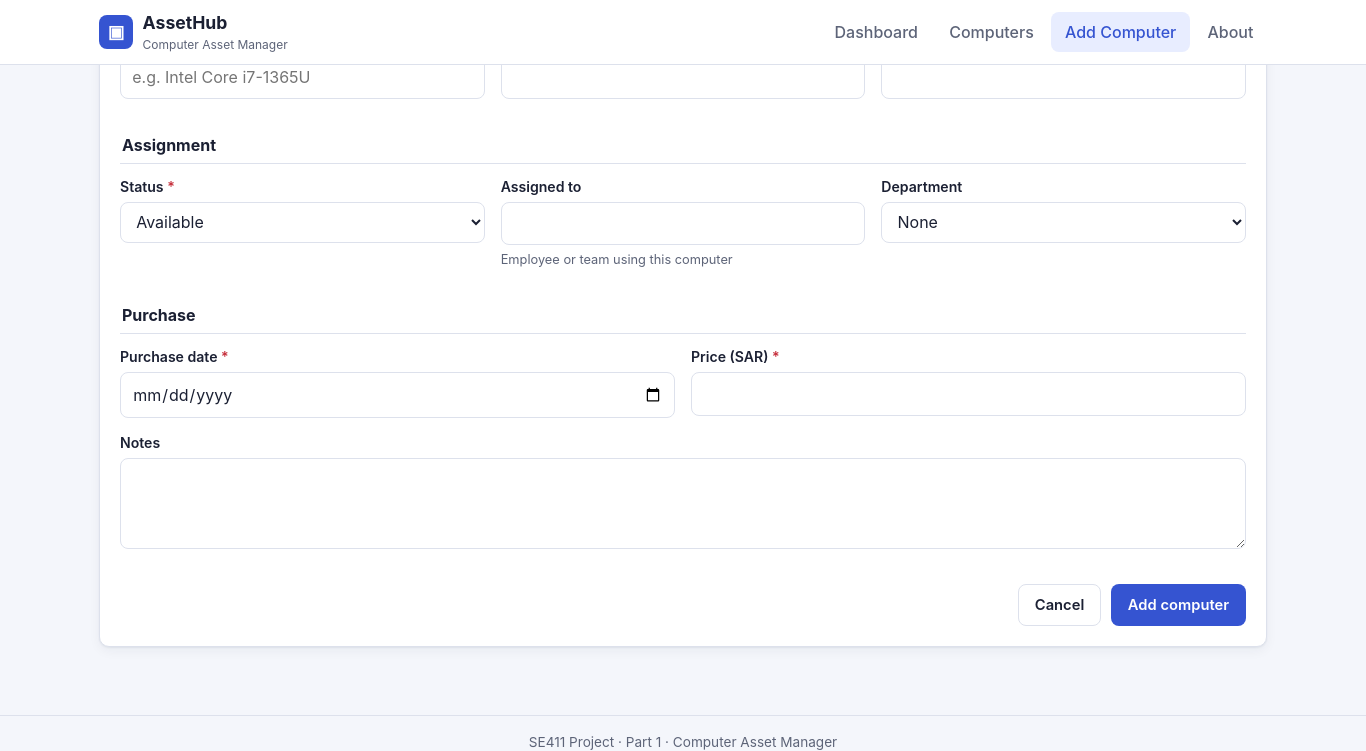
Test case: add computer › cancel returns to the list without saving
(page scrolled)
Step 1. Click the button "Cancel" → (1060, 605), box top-left (1018, 584), bottom-right (1101, 626)
(page scrolled)
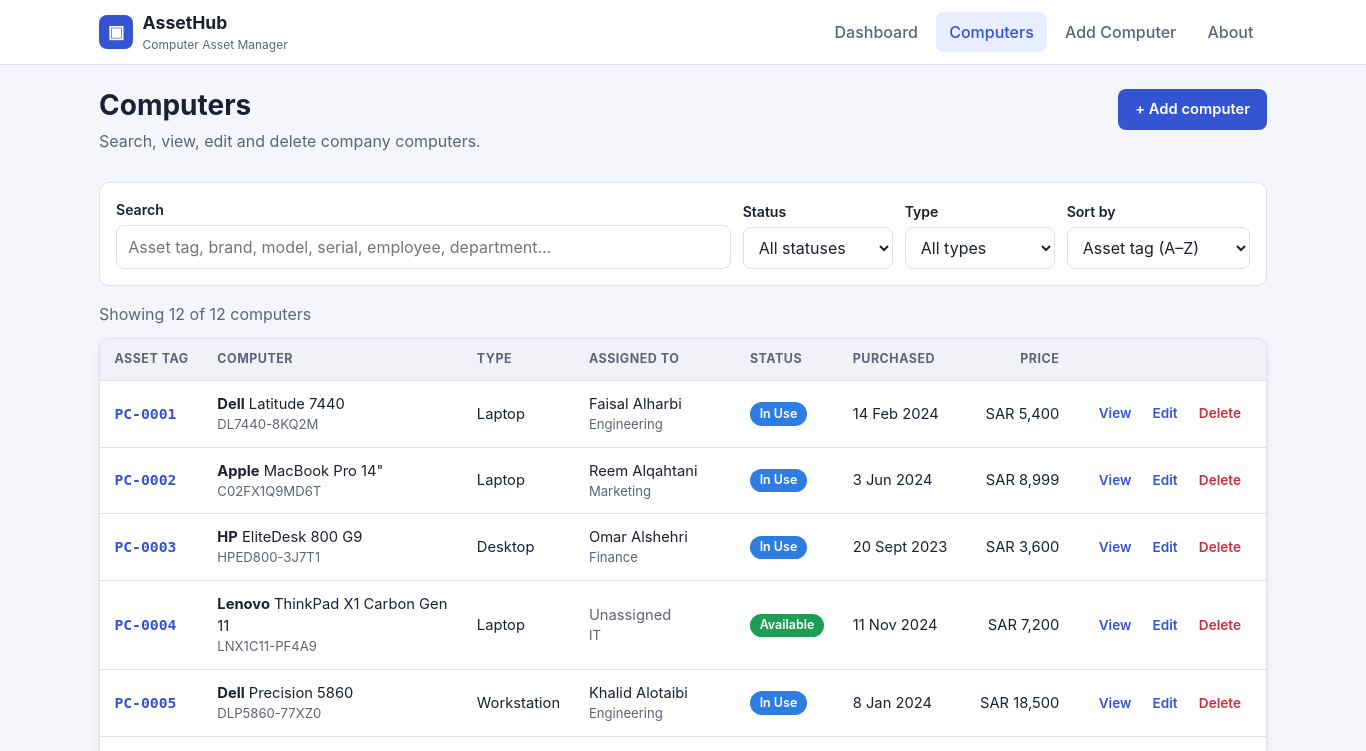
Expected: the text "Showing 12 of 12 computers" is shown, top-left (99, 302), bottom-right (311, 326)
